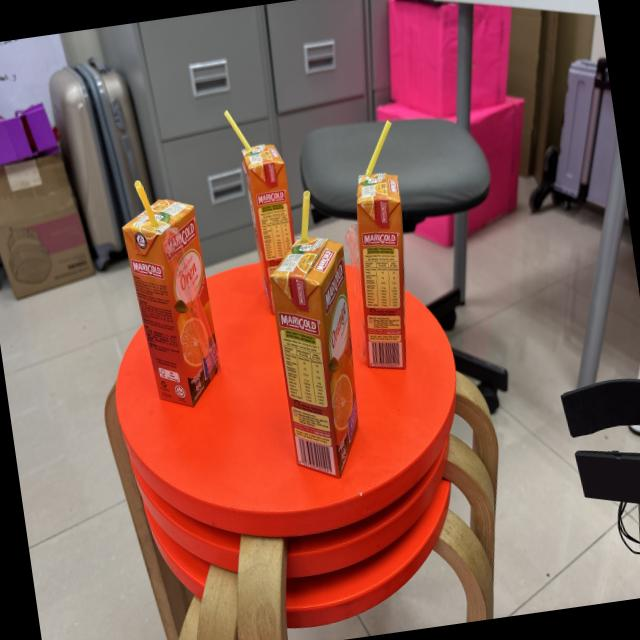drink_carton: (245, 183, 378, 490), (108, 166, 235, 424), (328, 109, 436, 393), (214, 90, 310, 322)
